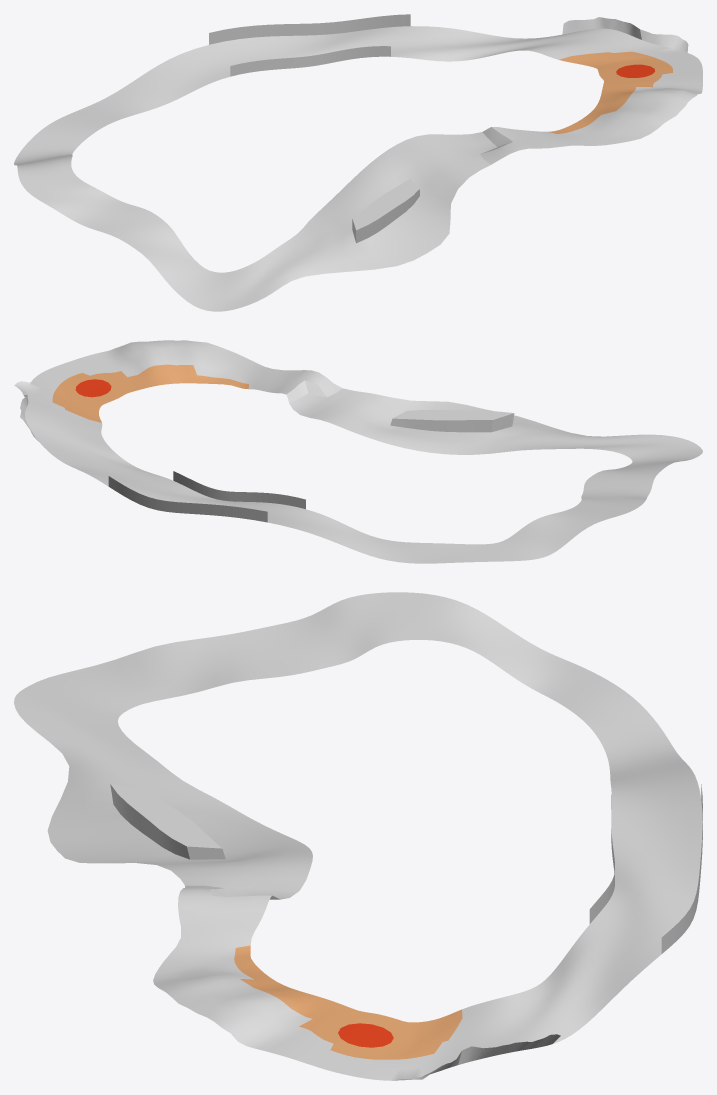
The model's file is test-track (2).fbx.
3 renders of one model, top to bottom at view 1: azimuth 30°, elevation 25°; view 2: azimuth 150°, elevation 25°; view 3: azimuth 270°, elevation 25°, orthographic. The views are drawn at different scales.
Parts seen in each view (by area): view 1: Ellipse; view 2: Ellipse; view 3: Ellipse.
Part boxes in pixels (box(x1,y1,x2,y2)): Ellipse: box(14, 14, 702, 311); Ellipse: box(14, 340, 702, 563); Ellipse: box(14, 592, 702, 1080).
Size of the model in its own units: 9878 by 764 by 6231.
